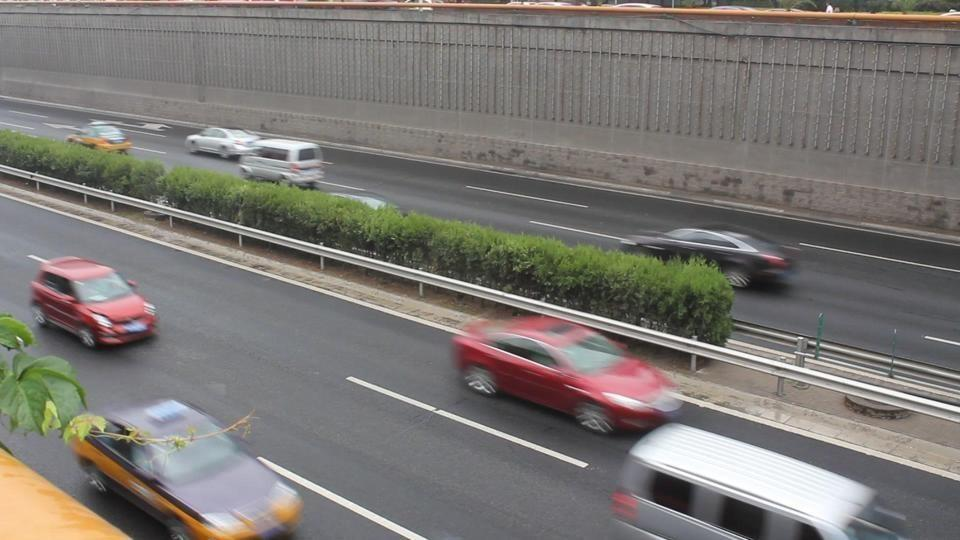car: (608, 421, 904, 539), (62, 396, 306, 538), (449, 311, 681, 435), (26, 255, 159, 350), (622, 226, 801, 289), (237, 137, 331, 189), (185, 126, 265, 161), (66, 122, 133, 154)
